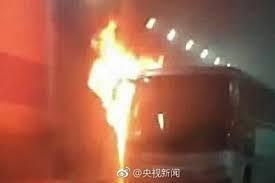fire: (86, 20, 162, 167)
